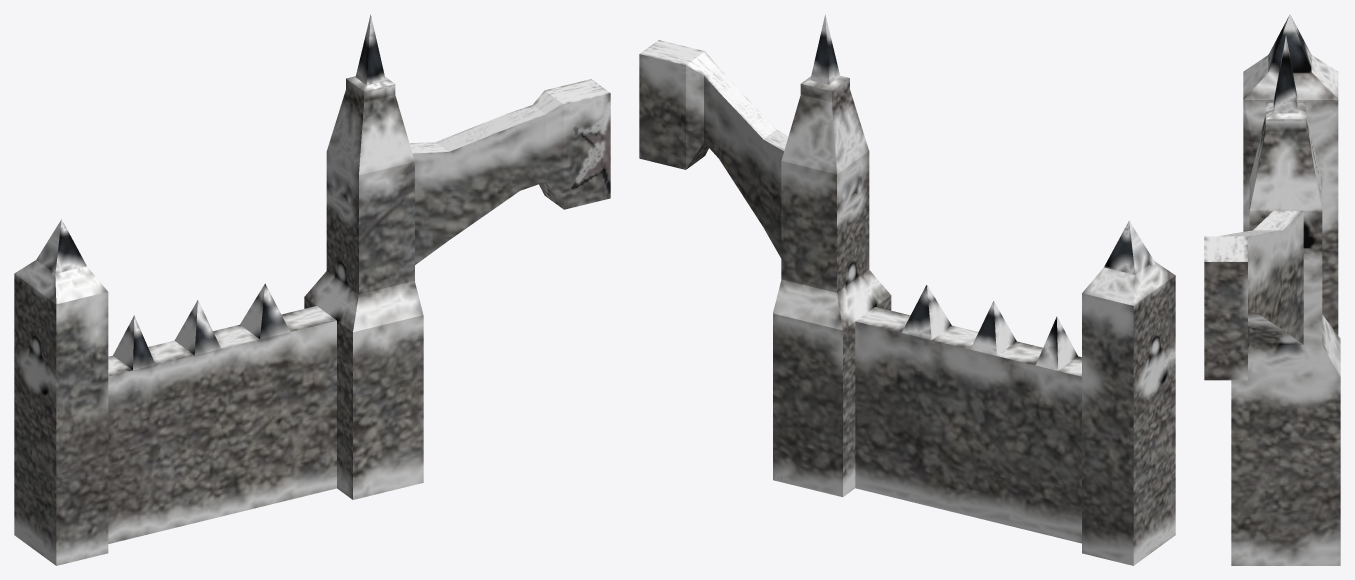
File: frontgate.glb
3 views of the same model, side by side, from view 1: azimuth 30°, elevation 25°; view 2: azimuth 150°, elevation 25°; view 3: azimuth 270°, elevation 25° (orthographic). The views are drawn at different scales.
Parts seen in each view (by area): view 1: Front Gate; view 2: Front Gate; view 3: Front Gate.
Boxes of the visible parts, <box> form: Front Gate: <box>14,14,610,565</box>; Front Gate: <box>639,14,1175,565</box>; Front Gate: <box>1204,14,1340,565</box>.
Size of the model in its own units: 39.91 by 32.53 by 7.79.
1 material, 1 textured.
